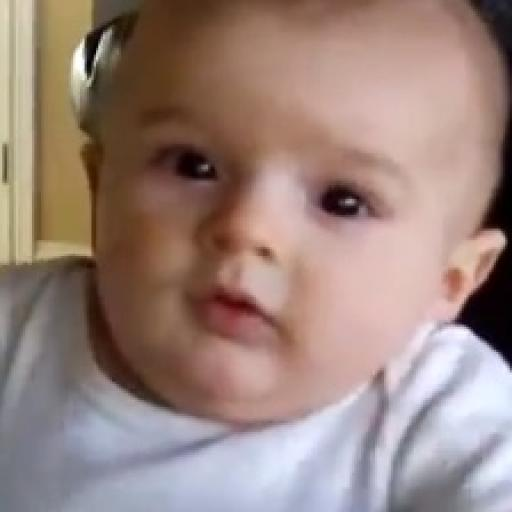Autism: (68, 0, 512, 429)
